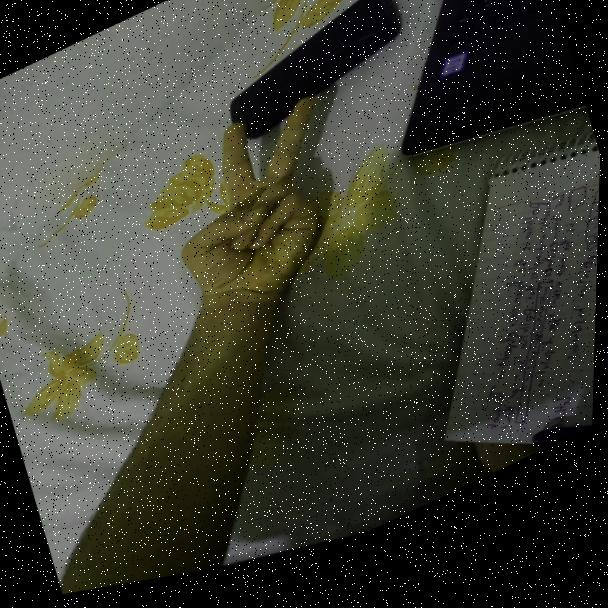two: (137, 80, 397, 360)
